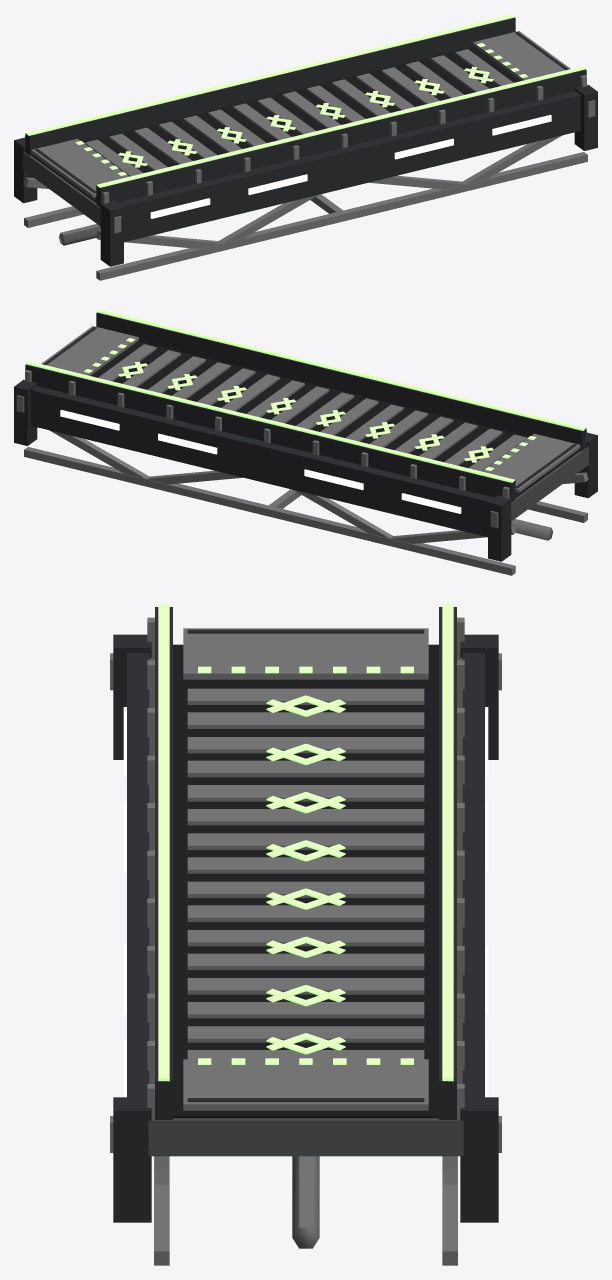
File: Deck_Conveyor_Belt_v4_10.glb
3 renders of one model, top to bottom at view 1: azimuth 30°, elevation 25°; view 2: azimuth 150°, elevation 25°; view 3: azimuth 270°, elevation 25°, orthographic. The views are drawn at different scales.
Parts seen in each view (by area): view 1: Deck_Conveyor_Belt_v4_10, Treads, TreadsRev; view 2: Deck_Conveyor_Belt_v4_10, Treads, TreadsRev; view 3: Deck_Conveyor_Belt_v4_10, Treads, TreadsRev.
Part boxes in pixels (<box>): Deck_Conveyor_Belt_v4_10: <box>14,14,597,280</box>; Treads: <box>86,49,513,175</box>; TreadsRev: <box>85,50,513,176</box>; Deck_Conveyor_Belt_v4_10: <box>14,309,597,575</box>; Treads: <box>98,344,525,470</box>; TreadsRev: <box>99,344,526,471</box>; Deck_Conveyor_Belt_v4_10: <box>110,604,501,1265</box>; Treads: <box>187,688,424,1059</box>; TreadsRev: <box>187,689,424,1059</box>.
Bounding box in the file's own units: 10.04 × 1.83 × 3.48.
